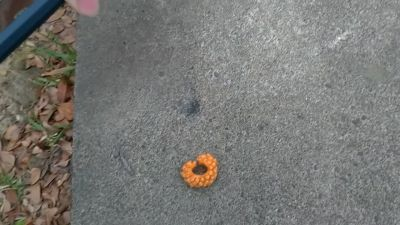eggs: (181, 152, 220, 187)
